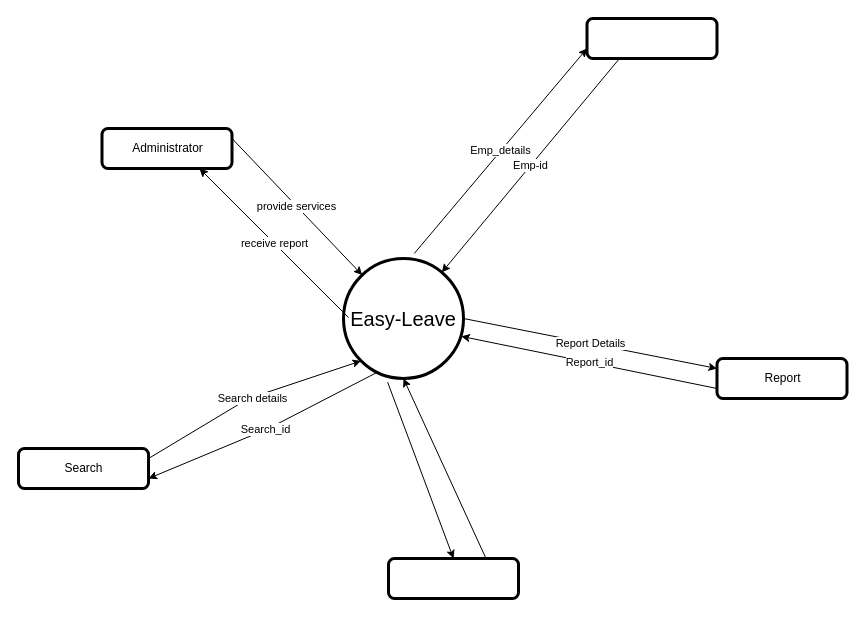
Some shapes in this 866 by 617 pixel diagram are drawn without their labels. Here are the shapes that lost their labels. From the top down, the centre of each, then its label:
At point 651,38: "Employees".
At point 453,578: "Authentication".
